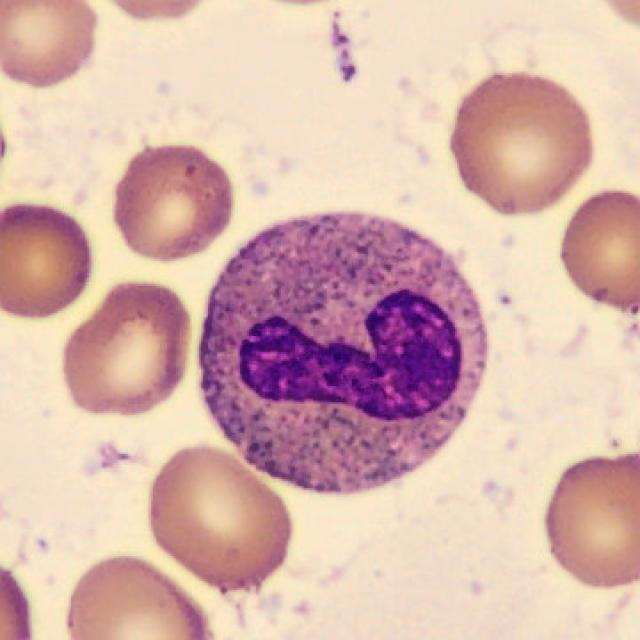Neutrofilo segmentado: (199, 220, 489, 497)
